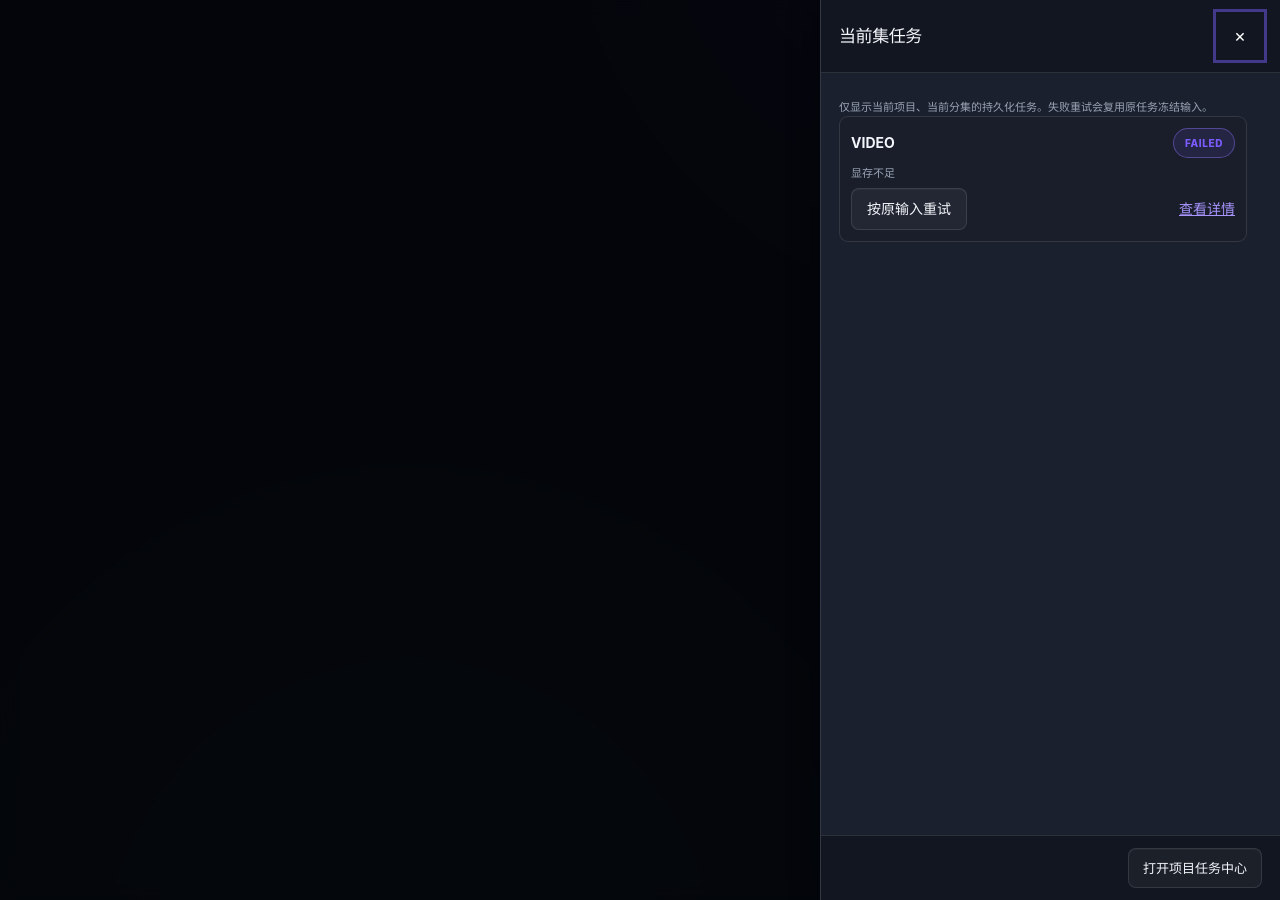
Test: R03 episode retry boundaries › 受理成功但刷新失败不显示重试失败
What coordinates should you click on to do the following:
click the button "按原输入重试"
I would click on:
 (909, 209)
Its box is [851,188,967,230].
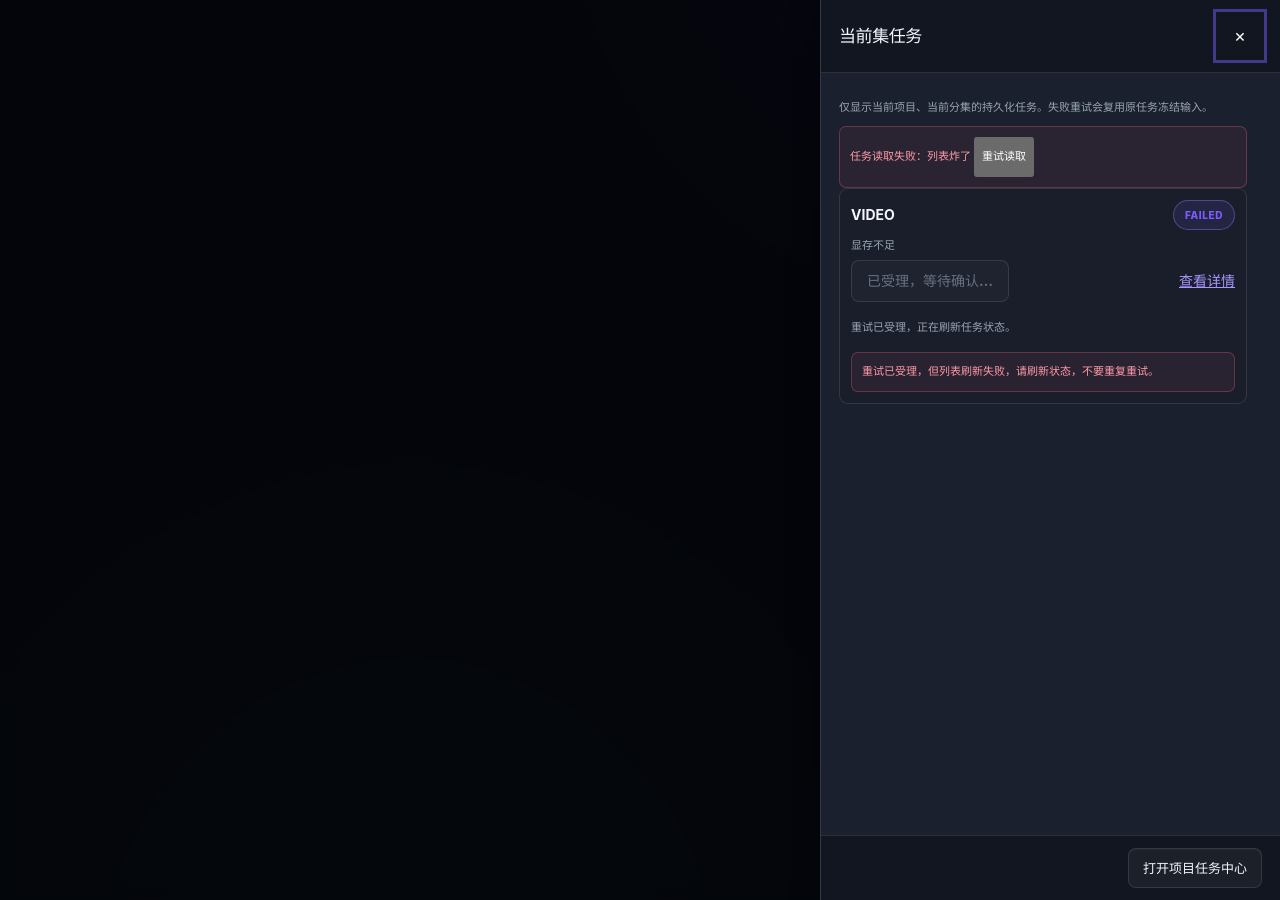
expect the text "重试已受理，正在刷新任务状态。" is shown: met, box [851,320,1016,334]
expect the text "重试已受理，但列表刷新失败，请刷新状态，不要重复重试。" is shown: met, box [851,352,1235,392]
